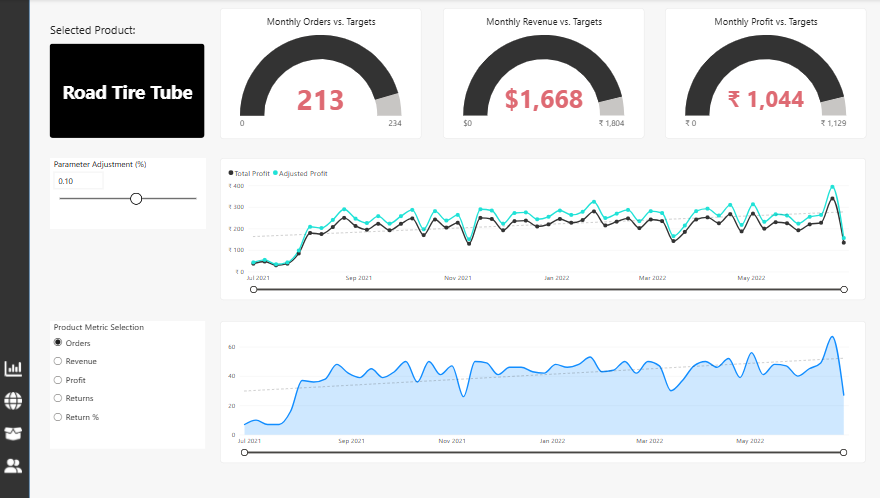

The page's visual inventory and layout, read from the dashboard file:
{"tool":"powerbi","page":{"name":"Product Detail","canvas":[1920,1080],"ordinal":2},"visuals":[{"type":"shape","box":[0,0,70,1080],"z":0},{"type":"cardVisual","fields":{"Data":["Min(Product Lookup.ProductName)"]},"box":[112.5,96.4,337.5,206.1],"z":0,"group":"g1"},{"type":"actionButton","box":[0,766.8,69.1,64.8],"z":0,"group":"g2"},{"type":"gauge","title":"Monthly Orders vs. Targets","fields":{"MaxValue":["Measure Table.Order Target"],"Y":["Measure Table.Total Orders"]},"box":[482.5,20,435,282.5],"z":1000},{"type":"textbox","box":[115,50,240,46.4],"z":1000,"group":"g1"},{"type":"actionButton","box":[0,836.6,69.1,64.8],"z":1000,"group":"g2"},{"type":"gauge","title":"Monthly Profit vs. Targets","fields":{"MaxValue":["Measure Table.Profit Target"],"Y":["Measure Table.Total Profit"]},"box":[1442.5,20,435,282],"z":2000},{"type":"actionButton","box":[0,906.5,69.1,64.8],"z":2000,"group":"g2"},{"type":"gauge","title":"Monthly Revenue vs. Targets","fields":{"MaxValue":["Measure Table.Revenue Target"],"Y":["Measure Table.Total Revenue"]},"box":[962.5,20,435,282],"z":3000},{"type":"actionButton","box":[0,976.3,69.1,64.8],"z":3000,"group":"g2"},{"type":"lineChart","title":"Profit Trending","fields":{"Category":["Calendar Lookup.Date Hierarchy.Start of Year","Calendar Lookup.Date Hierarchy.Start of Month","Calendar Lookup.Date Hierarchy.Start of Week","Calendar Lookup.Date Hierarchy.Date"],"Y":["Measure Table.Total Profit","Measure Table.Adjusted Profit"]},"box":[481.7,343.4,1395.4,306.7],"z":4000},{"type":"areaChart","title":"Return Trending","fields":{"Category":["Calendar Lookup.Date Hierarchy.Start of Year","Calendar Lookup.Date Hierarchy.Start of Month","Calendar Lookup.Date Hierarchy.Start of Week","Calendar Lookup.Date Hierarchy.Date"],"Y":["Measure Table.Total Orders"]},"box":[481.7,695.5,1395.4,306.7],"z":5000},{"type":"group","id":"g1","title":"Group 1","box":[112.5,50,337.5,252.5],"z":6000},{"type":"group","id":"g2","title":"Navigation","box":[0,766.8,69.1,274.3],"z":7000},{"type":"slicer","fields":{"Values":["Parameter Adjustment (%).Parameter Adjustment (%)"]},"box":[114.5,343.4,334.8,153.4],"z":8000},{"type":"slicer","fields":{"Values":["Product Metric Selection.Product Metric Selection"]},"box":[114.5,695.5,334.8,276.5],"z":9000}]}

Visuals, with their boxes on the page's 1920x1080 design canvas (x1, y1, x2, y2). These are canvas units, not pixel positions in the 880x498 screenshot, which may show the page scaled, cropped or inside an application window:
shape: (0, 0, 70, 1080)
cardVisual - Min(Product Lookup.ProductName): (112, 96, 450, 302)
actionButton: (0, 767, 69, 832)
"Monthly Orders vs. Targets" gauge: (482, 20, 918, 302)
textbox: (115, 50, 355, 96)
actionButton: (0, 837, 69, 901)
"Monthly Profit vs. Targets" gauge: (1442, 20, 1878, 302)
actionButton: (0, 906, 69, 971)
"Monthly Revenue vs. Targets" gauge: (962, 20, 1398, 302)
actionButton: (0, 976, 69, 1041)
"Profit Trending" lineChart: (482, 343, 1877, 650)
"Return Trending" areaChart: (482, 696, 1877, 1002)
"Group 1" group: (112, 50, 450, 302)
"Navigation" group: (0, 767, 69, 1041)
slicer - Parameter Adjustment (%).Parameter Adjustment (%): (114, 343, 449, 497)
slicer - Product Metric Selection.Product Metric Selection: (114, 696, 449, 972)
